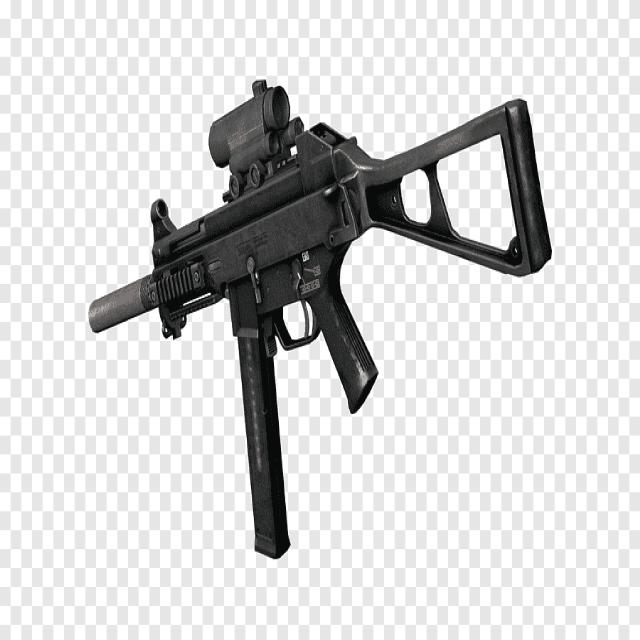SMG: (87, 81, 555, 562)
